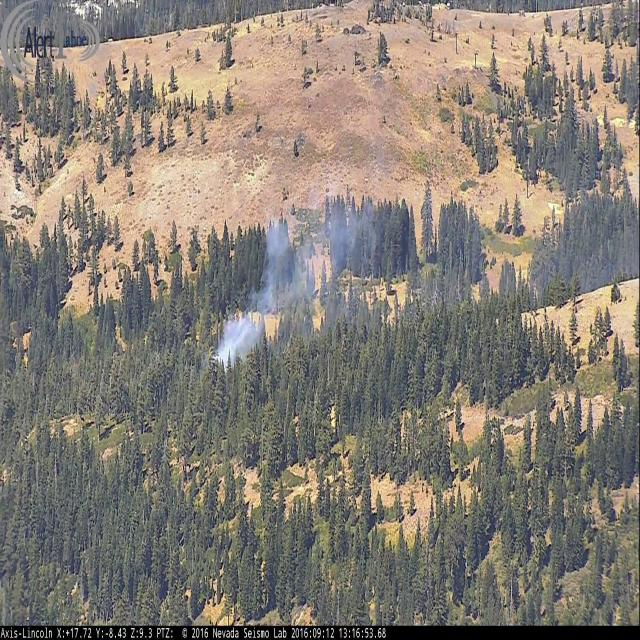smoke: (214, 130, 389, 371), (399, 220, 640, 313)
